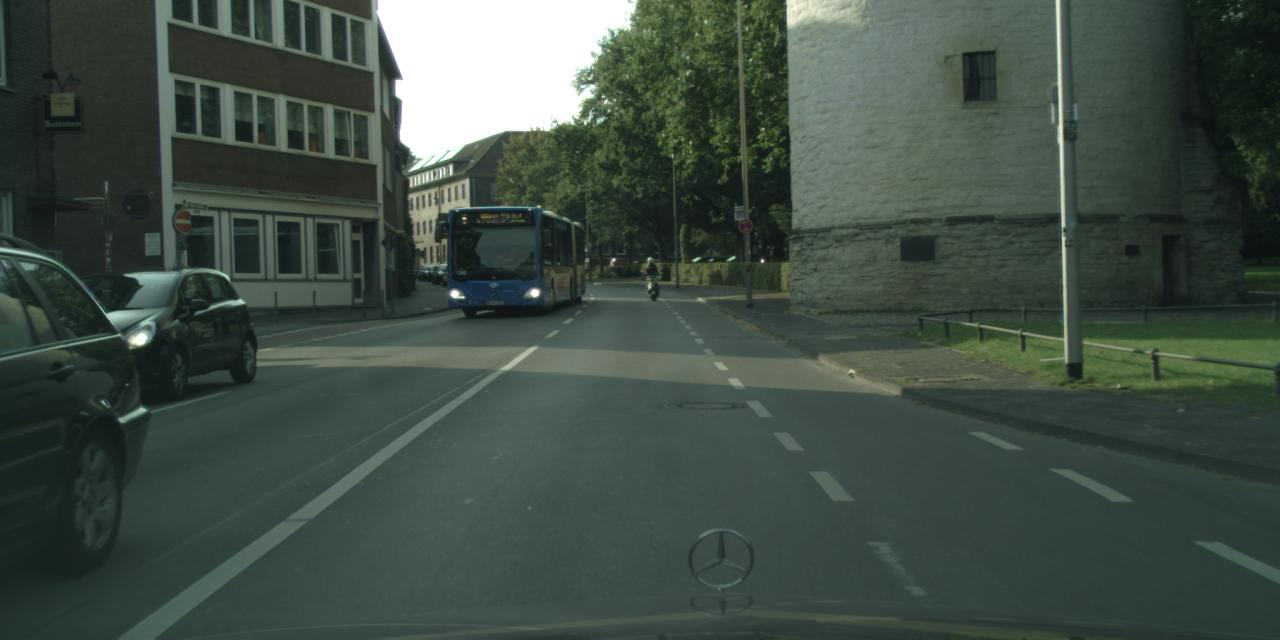ped: (644, 256, 658, 292)
